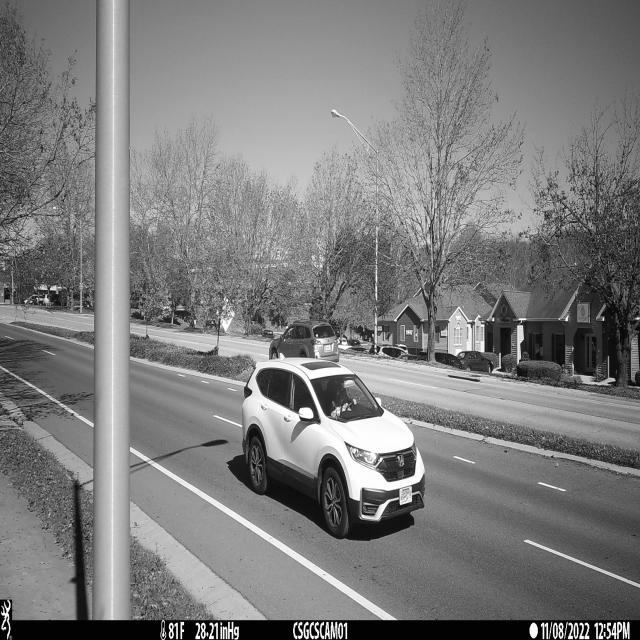SUV: (242, 358, 425, 539)
